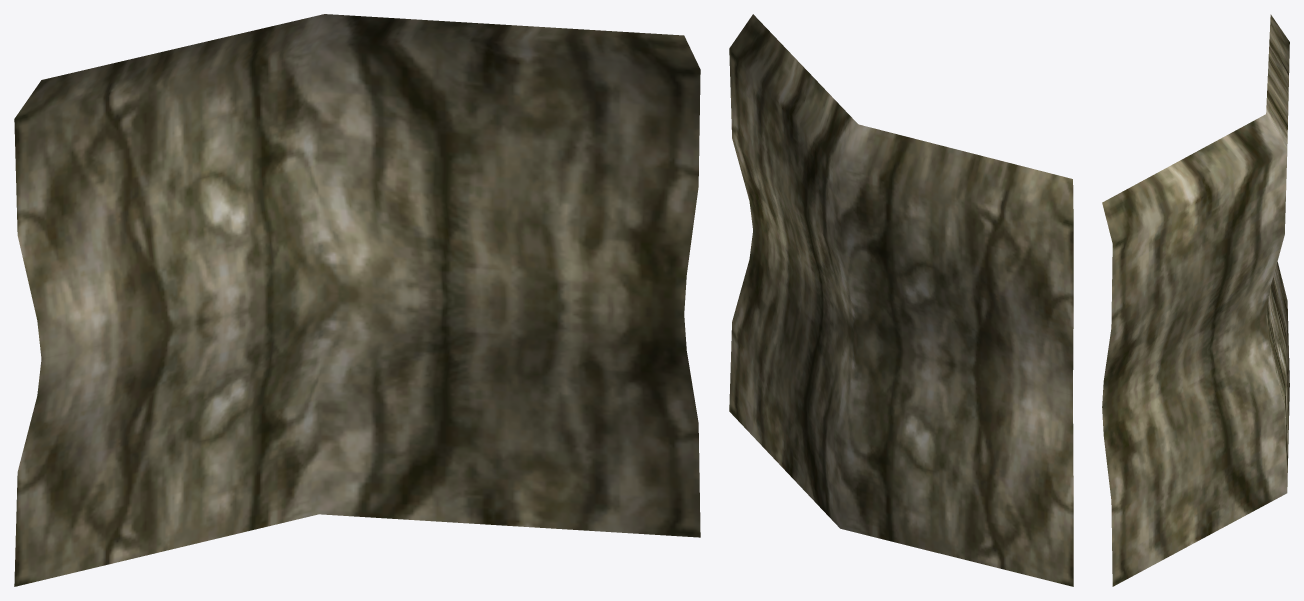
Rendered from CB_NEWPLAYSURFACE_CB_PLAYSURFACE42.fbx.
3 renders of one model, left to right at view 1: azimuth 30°, elevation 25°; view 2: azimuth 150°, elevation 25°; view 3: azimuth 270°, elevation 25°, orthographic. The views are drawn at different scales.
Parts seen in each view (by area): view 1: CB_NEWPLAYSURFACE_CB_PLAYSURFACE42; view 2: CB_NEWPLAYSURFACE_CB_PLAYSURFACE42; view 3: CB_NEWPLAYSURFACE_CB_PLAYSURFACE42.
Part boxes in pixels (bbox=[...]): CB_NEWPLAYSURFACE_CB_PLAYSURFACE42: bbox=[14, 14, 700, 586]; CB_NEWPLAYSURFACE_CB_PLAYSURFACE42: bbox=[729, 14, 1073, 586]; CB_NEWPLAYSURFACE_CB_PLAYSURFACE42: bbox=[1102, 14, 1289, 586].
Size of the model in its own units: 84771 by 73541 by 33294.
Materials: 1 (1 with a texture image).
